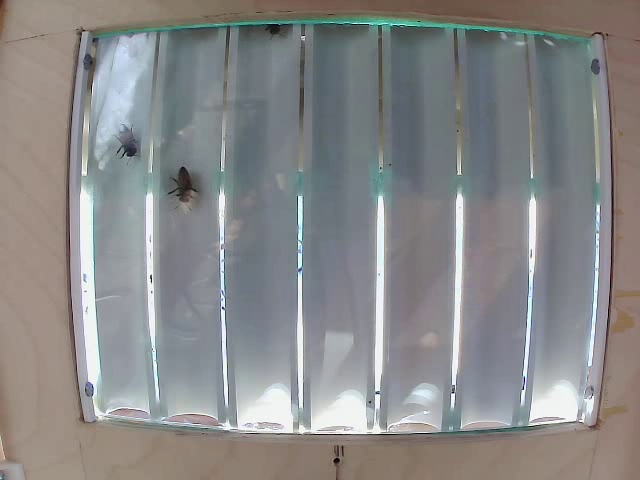bee: (161, 160, 195, 213), (109, 123, 155, 162)
